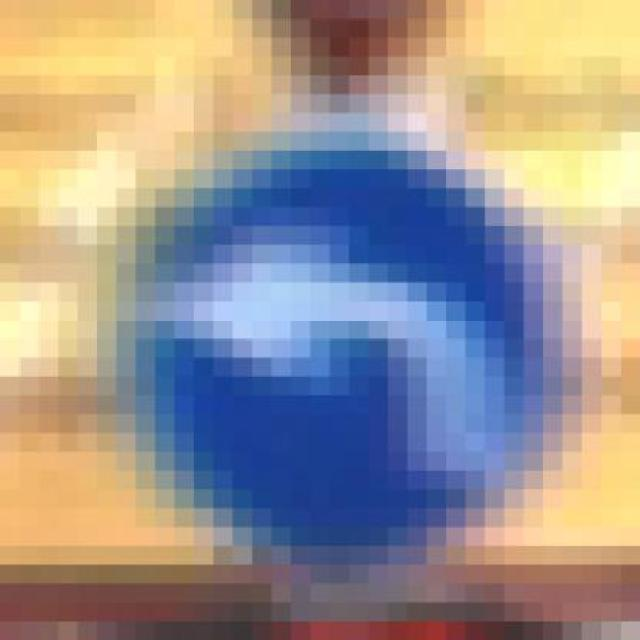Turn left ahead: (97, 94, 563, 583)
